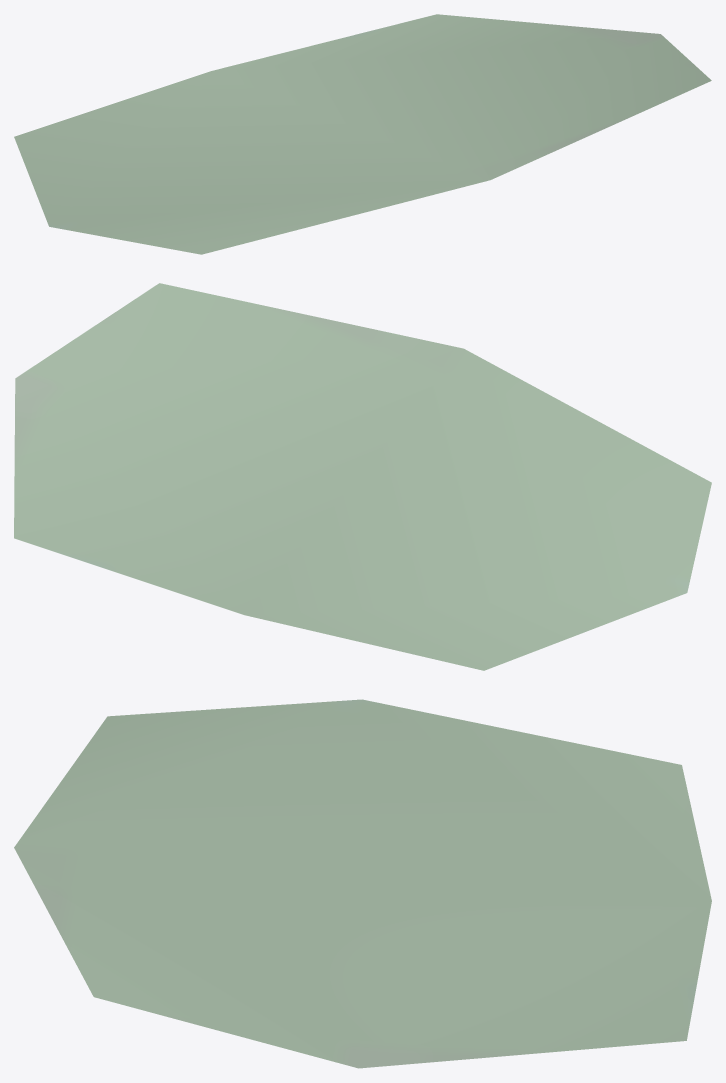
File: TROLLHOLE02_HOLECAP60.fbx
3 views of the same model, one above another, from view 1: azimuth 30°, elevation 25°; view 2: azimuth 150°, elevation 25°; view 3: azimuth 270°, elevation 25° (orthographic). The views are drawn at different scales.
Visible parts, largest first — view 1: TROLLHOLE02_HOLECAP60; view 2: TROLLHOLE02_HOLECAP60; view 3: TROLLHOLE02_HOLECAP60.
Part boxes in pixels (x1,y1,x2,y2): TROLLHOLE02_HOLECAP60: [14, 14, 711, 254]; TROLLHOLE02_HOLECAP60: [14, 283, 711, 670]; TROLLHOLE02_HOLECAP60: [14, 699, 711, 1068].
Bounding box in the file's own units: 23971 × 3107 × 16287.
1 material, 1 textured.
